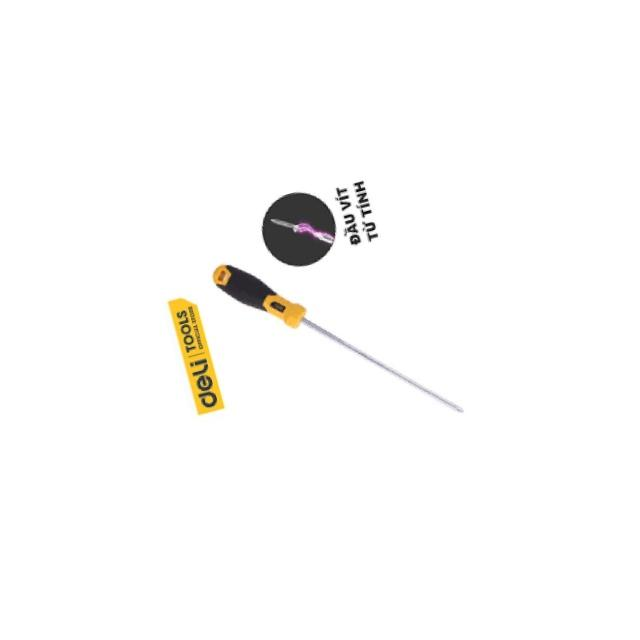screwdriver: (205, 212, 467, 469)
